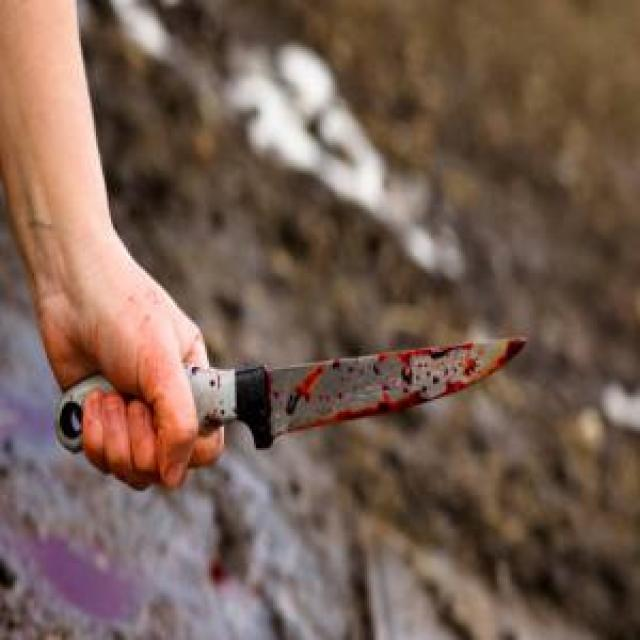knife: (58, 333, 527, 454)
